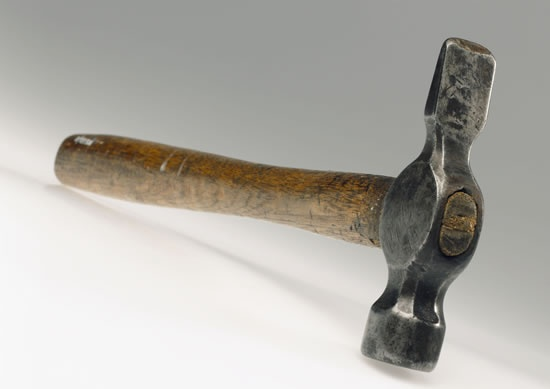hammer: (51, 37, 497, 373)
